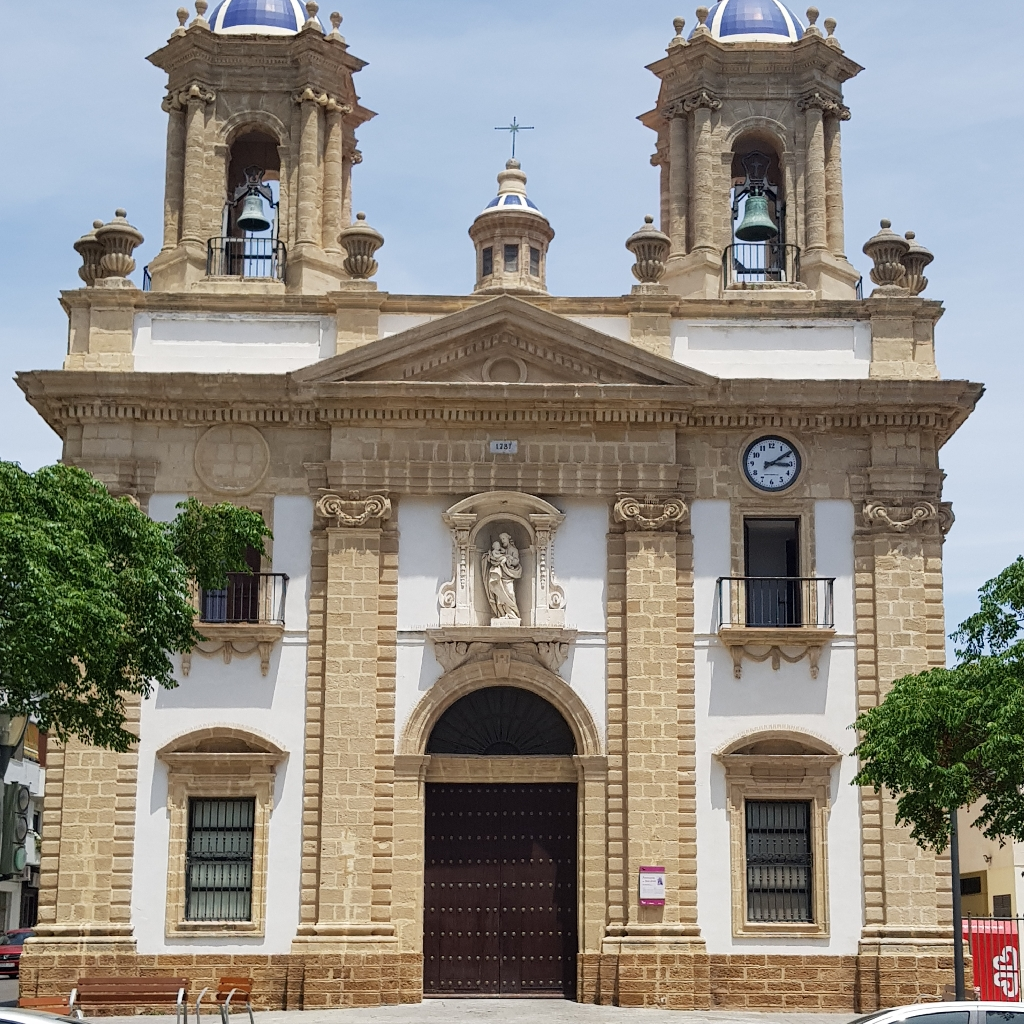arco-medio-punto: (397, 666, 594, 786), (724, 118, 787, 165), (218, 113, 282, 159)
fronton: (297, 291, 721, 408)
fronton-curvo: (156, 723, 287, 767), (720, 727, 843, 767), (443, 486, 562, 527)
vano-adintelado: (413, 773, 589, 1006), (721, 772, 834, 931), (165, 773, 274, 923), (724, 496, 820, 627)
